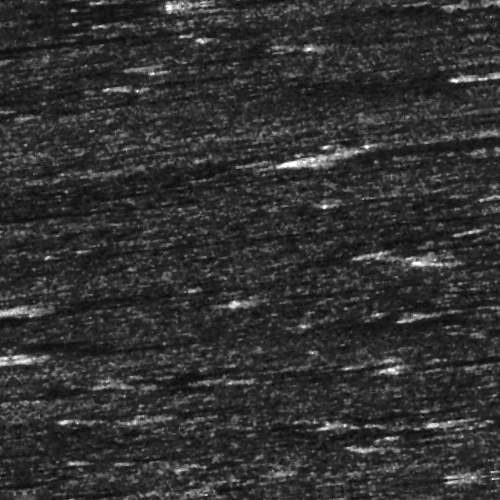object: (248, 254, 500, 277), (214, 153, 433, 176), (175, 294, 332, 307), (370, 434, 495, 445), (0, 274, 78, 289), (0, 322, 56, 341), (321, 376, 414, 385), (374, 274, 479, 281), (114, 69, 187, 78), (428, 489, 491, 498), (455, 94, 500, 103), (461, 228, 500, 237), (124, 53, 187, 58), (466, 20, 500, 29), (439, 250, 500, 255), (0, 471, 29, 478), (0, 470, 24, 477), (488, 213, 500, 224), (471, 496, 500, 500)
shadow: (323, 153, 500, 176), (37, 274, 265, 289), (9, 322, 164, 341), (0, 14, 148, 33), (384, 254, 500, 277), (254, 294, 414, 307), (368, 376, 500, 385), (0, 471, 136, 478), (0, 190, 104, 199), (0, 470, 131, 477), (433, 434, 500, 445), (155, 53, 302, 58), (151, 69, 225, 78), (0, 287, 42, 302), (427, 274, 500, 281), (459, 489, 500, 498), (471, 250, 500, 255)
